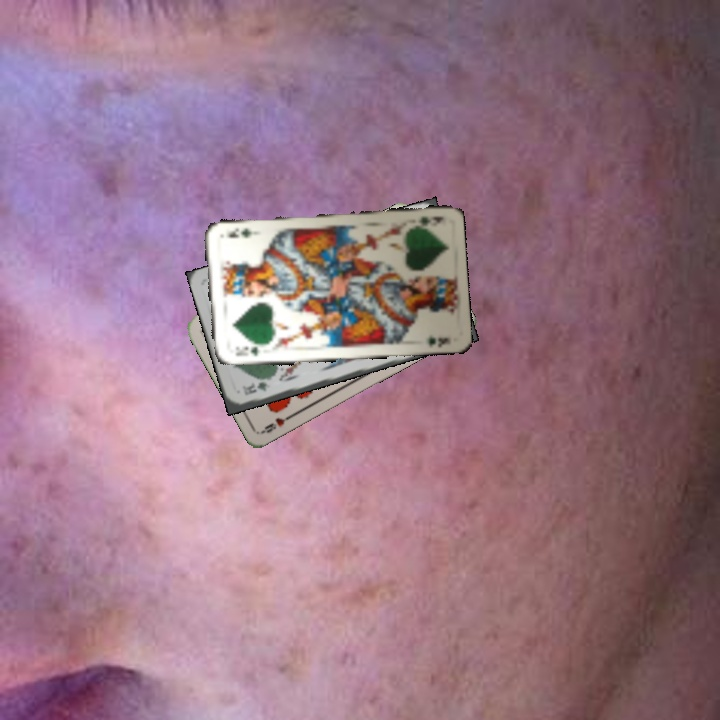GK: (239, 378, 273, 398), (410, 212, 447, 230), (231, 342, 261, 358)
H9: (258, 410, 296, 436)
